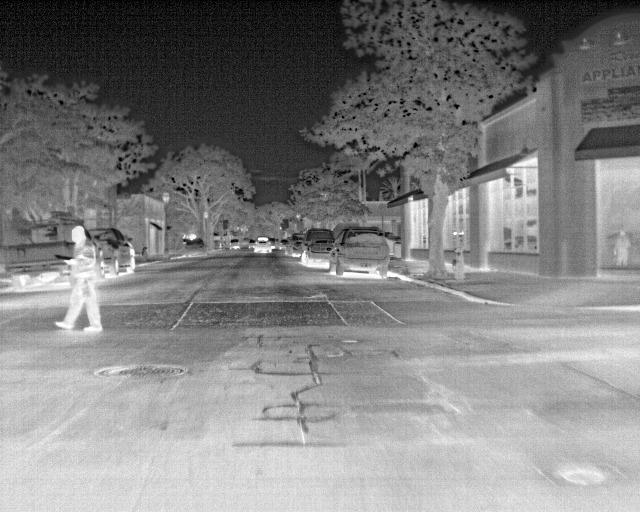bicycle: (0, 241, 72, 289), (328, 225, 390, 276), (90, 226, 134, 271), (305, 230, 336, 267), (95, 240, 119, 273), (253, 236, 275, 259), (287, 234, 305, 260), (226, 239, 244, 252)
empty: (54, 224, 106, 334)
